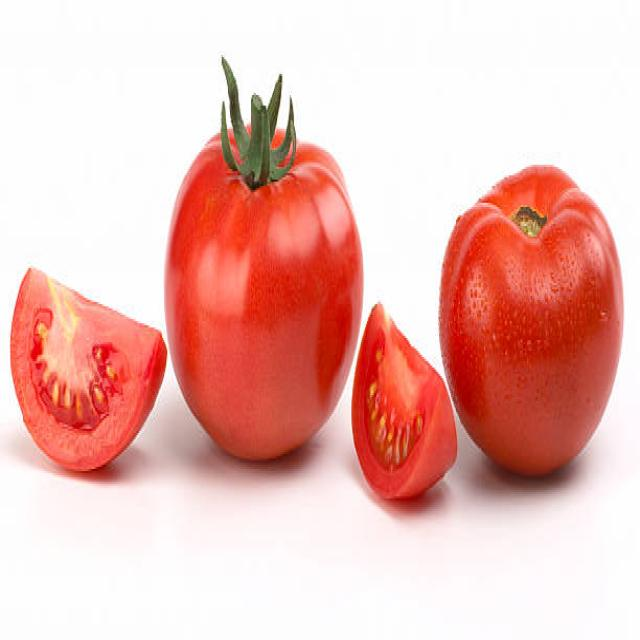Tomato: (149, 80, 368, 488), (443, 129, 640, 503), (11, 246, 186, 488), (342, 272, 476, 534)
